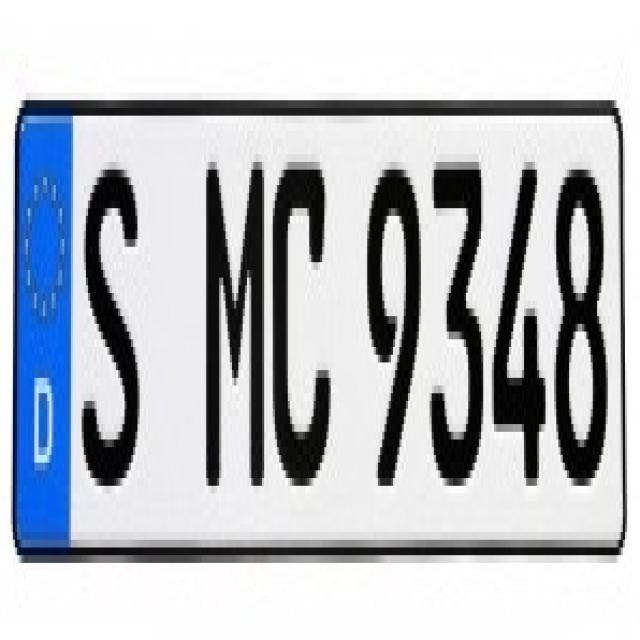Allemagne: (13, 100, 71, 551)
EU: (13, 106, 623, 553)
